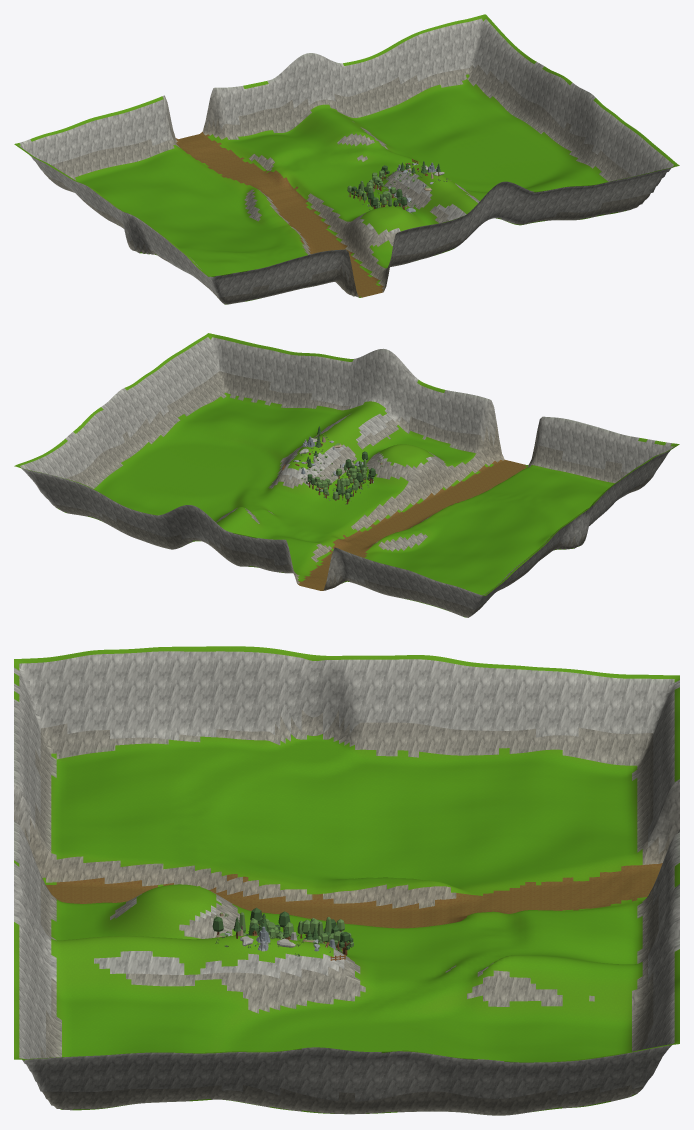
The model's file is cell_x0_z0_render.gltf.
The picture shows the model from 3 angles, top to bottom: view 1: azimuth 30°, elevation 25°; view 2: azimuth 150°, elevation 25°; view 3: azimuth 270°, elevation 25°; orthographic projection. The views are drawn at different scales.
Visible parts, largest first — view 1: cell_x0_z0; view 2: cell_x0_z0; view 3: cell_x0_z0.
Part boxes in pixels (x1,y1,x2,y2): cell_x0_z0: [14, 14, 679, 304]; cell_x0_z0: [14, 333, 679, 617]; cell_x0_z0: [14, 646, 679, 1115].
Size of the model in its own units: 280 by 46.47 by 200.
20 materials, 4 textured.
